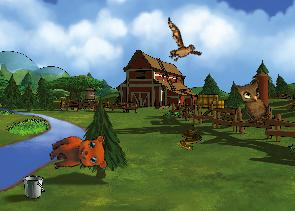bear: (45, 127, 112, 183)
eagle: (151, 17, 209, 71)
owl: (230, 73, 281, 127)
